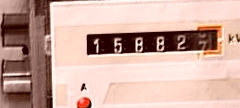1: (92, 37, 101, 53)
2: (176, 33, 186, 50)
5: (113, 36, 123, 52)
7: (198, 39, 207, 50)
8: (155, 34, 165, 52), (134, 36, 144, 53)
screen: (79, 20, 229, 64)
